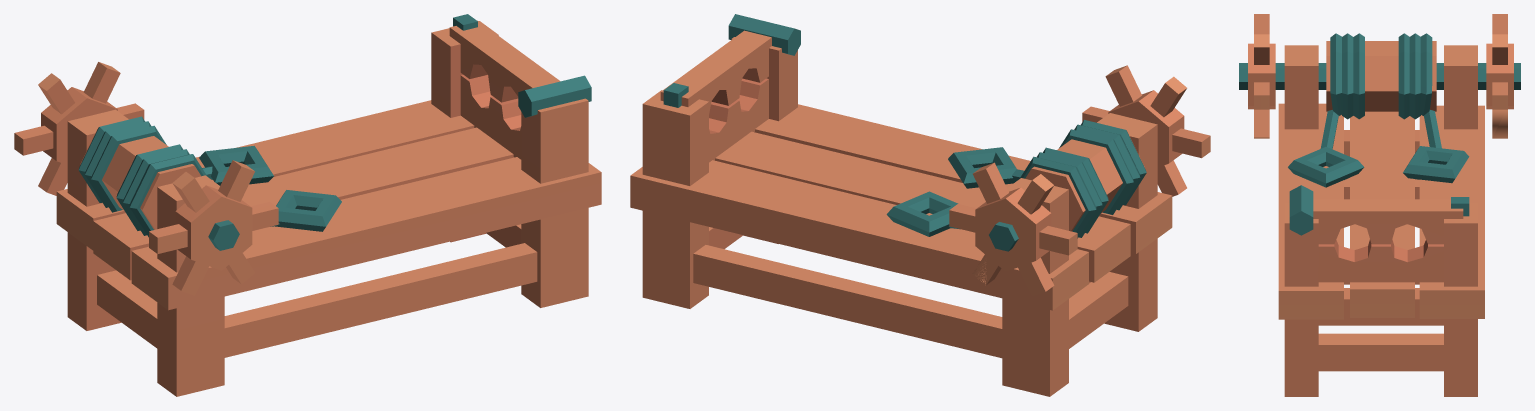
File: torture1.fbx
3 renders of one model, left to right at view 1: azimuth 30°, elevation 25°; view 2: azimuth 150°, elevation 25°; view 3: azimuth 270°, elevation 25°, orthographic. The views are drawn at different scales.
Visible parts, largest first — view 1: torture1, handcuffs1; view 2: torture1, handcuffs1; view 3: torture1, handcuffs1.
Boxes of the visible parts, x1,y1,x2,y2 form: torture1: [14, 14, 601, 396]; handcuffs1: [449, 20, 560, 102]; torture1: [630, 14, 1210, 396]; handcuffs1: [660, 30, 771, 113]; torture1: [1239, 14, 1520, 396]; handcuffs1: [1313, 199, 1463, 244].
Bounding box in the file's own units: 207 × 99.97 × 125.
